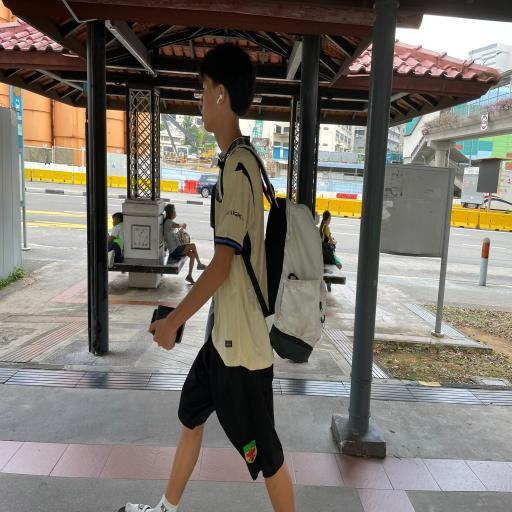person_left: (170, 44, 326, 512)
